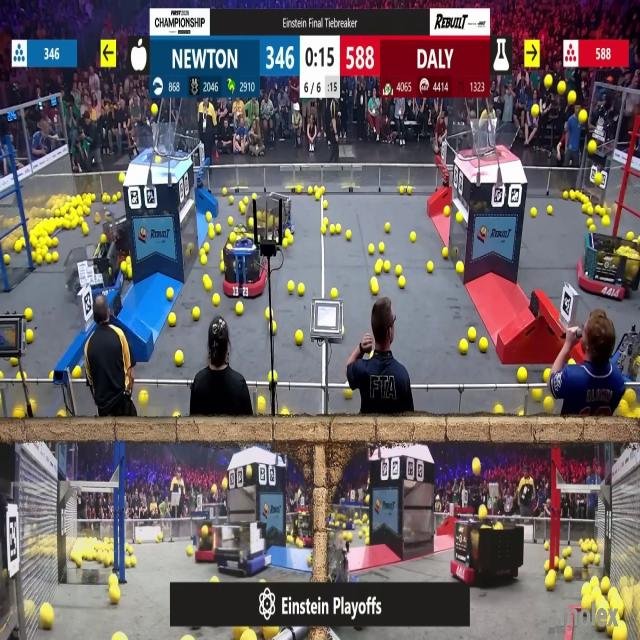ball_airborne: (472, 458, 481, 474), (589, 140, 597, 154), (243, 467, 251, 481), (543, 75, 552, 87), (568, 92, 576, 105), (578, 110, 586, 123), (558, 81, 566, 94), (595, 172, 603, 185), (480, 507, 488, 520), (602, 216, 609, 226), (150, 104, 156, 115), (532, 105, 538, 116), (221, 480, 227, 490), (212, 486, 217, 495)
ball_ground: (42, 605, 53, 631), (109, 588, 120, 604), (544, 573, 554, 590), (257, 396, 265, 414), (626, 389, 636, 403), (175, 350, 183, 366), (518, 367, 527, 381), (543, 396, 552, 410), (139, 391, 148, 405), (601, 580, 610, 594), (532, 388, 541, 401), (169, 313, 177, 327), (480, 339, 488, 353), (460, 340, 468, 354), (29, 403, 37, 417), (13, 410, 23, 421), (581, 596, 590, 608), (564, 568, 572, 581), (295, 332, 302, 346), (191, 308, 199, 320), (73, 365, 81, 377), (26, 309, 34, 321), (370, 282, 378, 294), (212, 293, 220, 305), (468, 328, 476, 340), (27, 329, 34, 342), (109, 574, 117, 585), (167, 288, 174, 300), (457, 263, 464, 275), (297, 283, 304, 295), (237, 304, 244, 316), (205, 280, 212, 292), (494, 406, 502, 416), (49, 238, 57, 248), (104, 556, 112, 566), (330, 287, 337, 298), (395, 266, 402, 277), (113, 633, 124, 640), (14, 242, 21, 253), (583, 585, 590, 596), (288, 281, 294, 293), (543, 368, 549, 380), (187, 544, 193, 556), (59, 411, 67, 420), (591, 576, 599, 585), (346, 388, 353, 398), (123, 558, 130, 568), (54, 252, 61, 262), (427, 263, 433, 274), (398, 277, 404, 288), (384, 263, 390, 274), (82, 223, 88, 234), (376, 265, 382, 276), (272, 372, 278, 383), (248, 217, 254, 228), (594, 554, 600, 565), (444, 248, 450, 258), (412, 233, 418, 243), (367, 244, 373, 254), (4, 254, 10, 264), (380, 243, 386, 253), (45, 252, 51, 262), (559, 559, 565, 569), (76, 558, 82, 568), (241, 197, 247, 207), (118, 173, 124, 183), (2, 568, 8, 578), (231, 234, 237, 244), (101, 196, 108, 204), (281, 411, 289, 418), (272, 322, 277, 333), (531, 208, 537, 217), (446, 207, 452, 216), (546, 206, 552, 215), (11, 357, 17, 366), (202, 255, 208, 264), (456, 213, 462, 222), (322, 201, 328, 210), (215, 223, 221, 232), (315, 191, 321, 200), (36, 255, 42, 264), (584, 557, 590, 566), (66, 219, 72, 228), (267, 310, 272, 320), (132, 557, 137, 567), (283, 239, 288, 249), (348, 532, 353, 542), (128, 270, 133, 280), (207, 212, 212, 222), (212, 574, 218, 582), (322, 217, 328, 225), (563, 190, 569, 198), (101, 236, 107, 244), (209, 232, 215, 240), (628, 233, 634, 241), (398, 186, 404, 194), (221, 187, 227, 195), (117, 194, 123, 202), (123, 543, 129, 551), (363, 496, 369, 504), (569, 190, 575, 198), (287, 536, 293, 544), (362, 515, 368, 523), (347, 232, 352, 241), (227, 217, 232, 226), (385, 222, 390, 231), (321, 225, 326, 234), (329, 224, 334, 233), (205, 243, 210, 252), (120, 264, 125, 273), (589, 206, 594, 215), (71, 219, 76, 228), (588, 218, 594, 225), (590, 224, 596, 231), (83, 209, 89, 216), (155, 535, 161, 542), (127, 256, 133, 263), (544, 560, 548, 570), (337, 224, 342, 232), (364, 537, 369, 545), (359, 532, 364, 540), (296, 539, 301, 547), (287, 237, 292, 245), (209, 222, 214, 230), (295, 185, 300, 193), (220, 264, 224, 273), (228, 197, 232, 206), (242, 206, 246, 215), (130, 544, 134, 553), (259, 577, 265, 583), (32, 250, 36, 259), (568, 359, 574, 365), (252, 192, 257, 199), (309, 187, 314, 194), (96, 215, 101, 222), (408, 187, 413, 194), (320, 186, 325, 193), (519, 412, 524, 419), (544, 542, 548, 550), (112, 192, 116, 200), (93, 192, 97, 200), (16, 373, 20, 381), (0, 370, 4, 377), (344, 524, 348, 530), (138, 537, 142, 543)
goal: (466, 120, 520, 160), (130, 127, 188, 161)
robot_blue: (67, 243, 121, 315), (216, 522, 270, 580), (617, 333, 640, 389)
robot_red: (451, 515, 523, 588), (578, 234, 638, 302), (223, 230, 267, 299), (194, 520, 218, 561), (289, 512, 313, 546)
